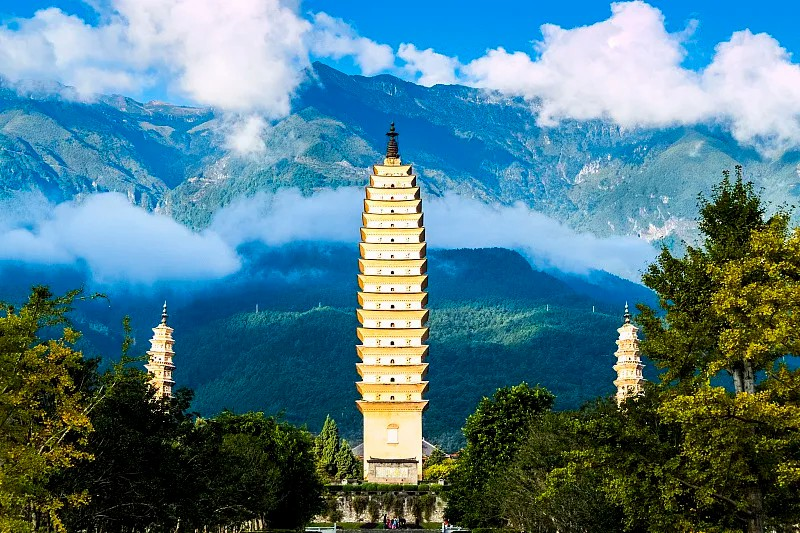ThreePagoda: (356, 121, 430, 482)
